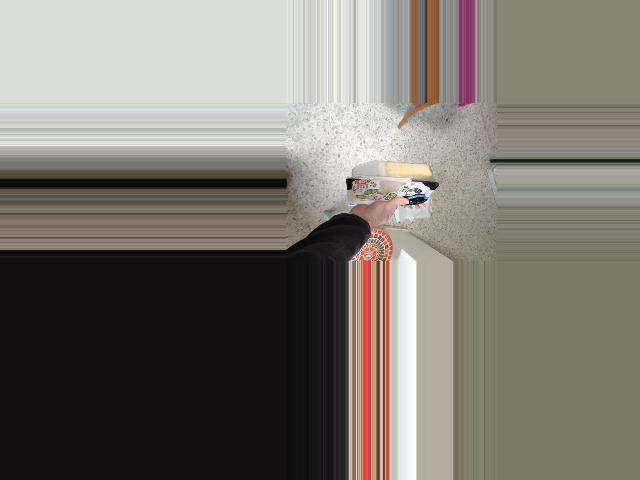cheese: (335, 137, 442, 228)
